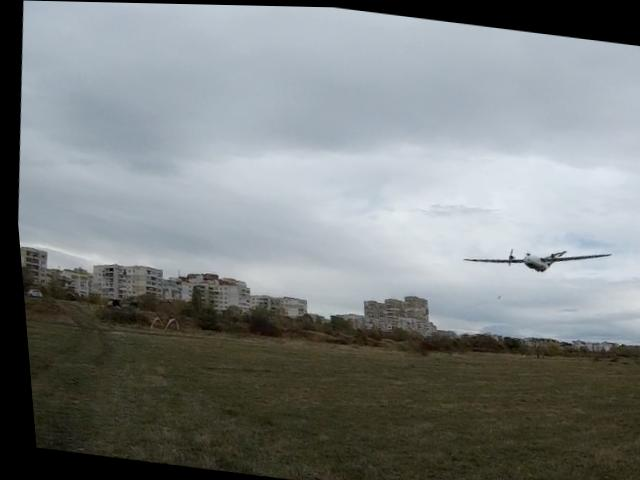plane: (457, 234, 611, 281)
